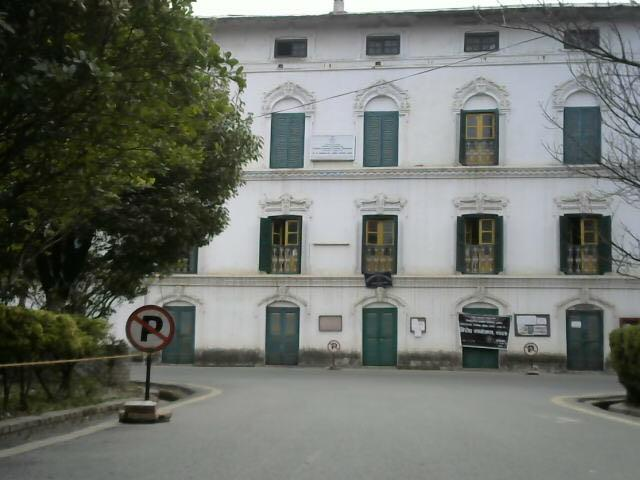Building: (206, 16, 619, 368)
Road: (70, 369, 640, 480), (116, 299, 170, 426)
Traffic sign: (323, 339, 349, 373), (519, 340, 539, 375)
Tree: (1, 0, 234, 281)
